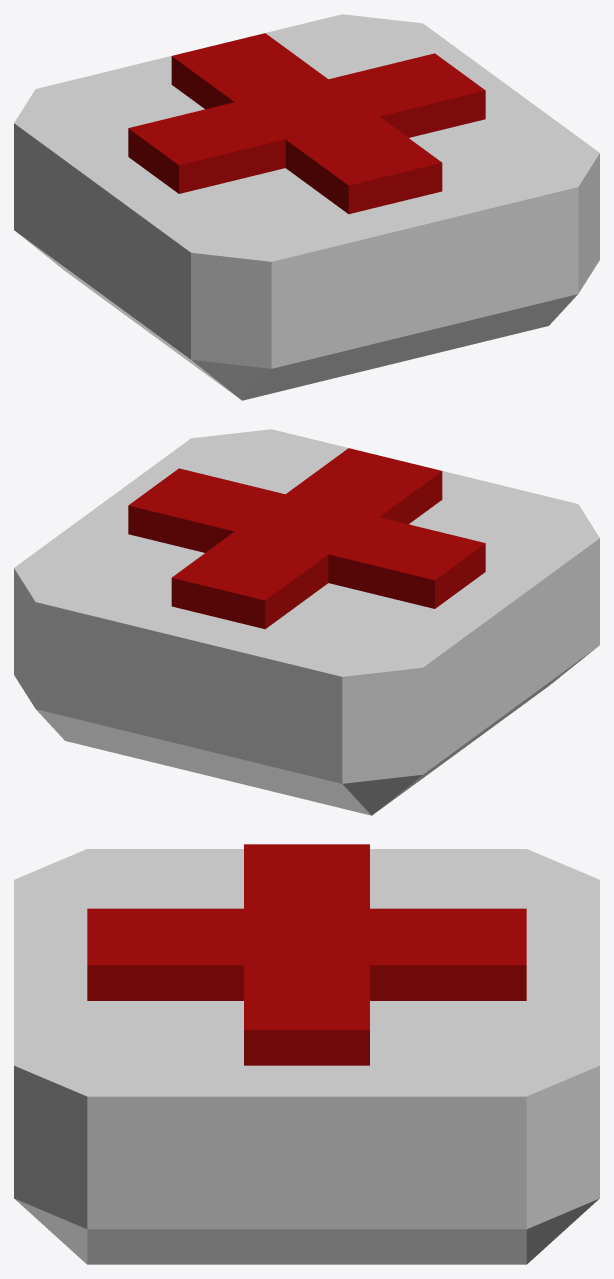
The model's file is Health_Pack.fbx.
3 renders of one model, top to bottom at view 1: azimuth 30°, elevation 25°; view 2: azimuth 150°, elevation 25°; view 3: azimuth 270°, elevation 25°, orthographic. The views are drawn at different scales.
Visible parts, largest first — view 1: pCube1; view 2: pCube1; view 3: pCube1.
Boxes of the visible parts, bbox=[...] form: pCube1: bbox=[14, 14, 599, 400]; pCube1: bbox=[14, 429, 599, 815]; pCube1: bbox=[14, 844, 599, 1264].
Size of the model in its own units: 0.5 by 0.221 by 0.5.
